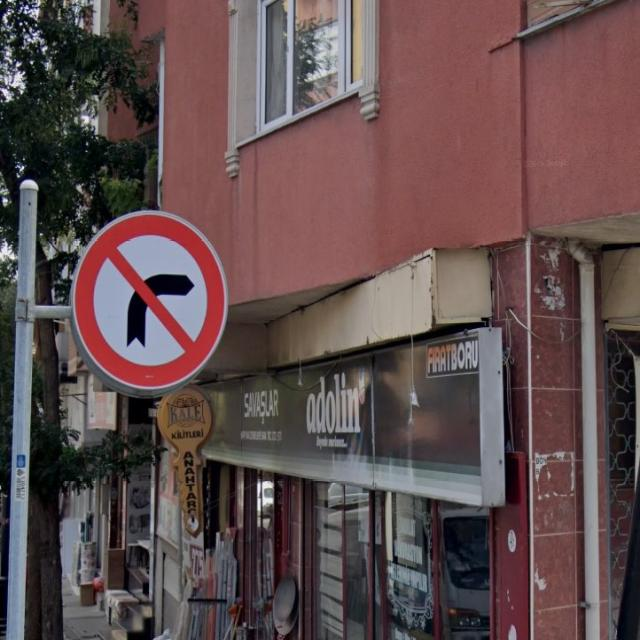sagadonulmez: (72, 211, 228, 390)
